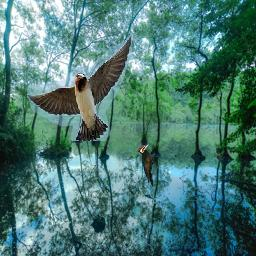Swallow: (28, 33, 133, 141)
Woodpecker: (137, 144, 156, 187)
